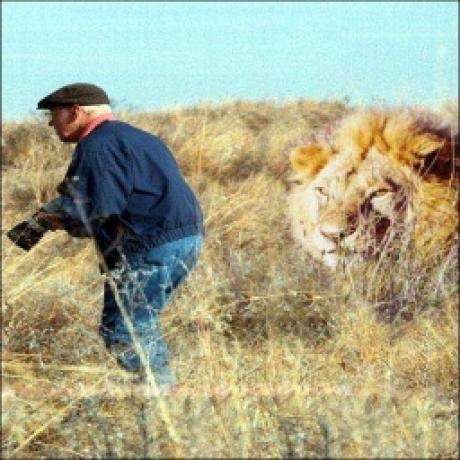Lion: (285, 100, 460, 301)
